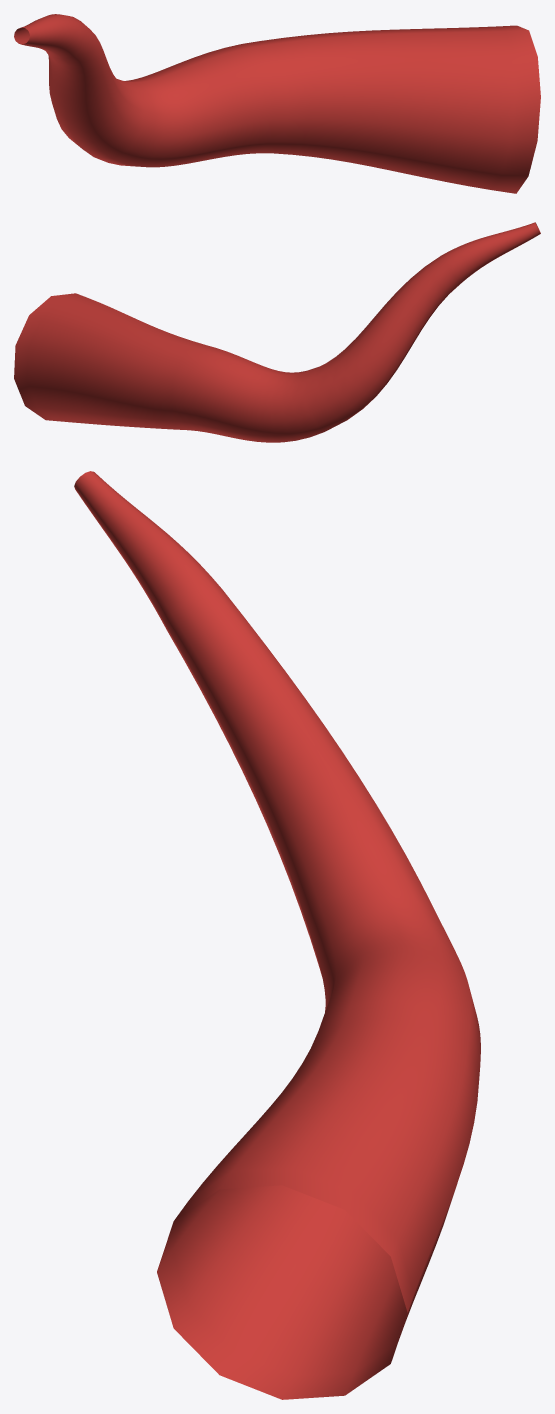
3 views of the same model, one above another, from view 1: azimuth 30°, elevation 25°; view 2: azimuth 150°, elevation 25°; view 3: azimuth 270°, elevation 25° (orthographic). The views are drawn at different scales.
Parts seen in each view (by area): view 1: 右侧肾动脉前支; view 2: 右侧肾动脉前支; view 3: 右侧肾动脉前支.
Boxes of the visible parts, x1,y1,x2,y2 form: 右侧肾动脉前支: [14, 14, 540, 193]; 右侧肾动脉前支: [14, 222, 540, 442]; 右侧肾动脉前支: [74, 471, 480, 1399].
Size of the model in its own units: 0.0352 by 0.0195 by 0.0138.
